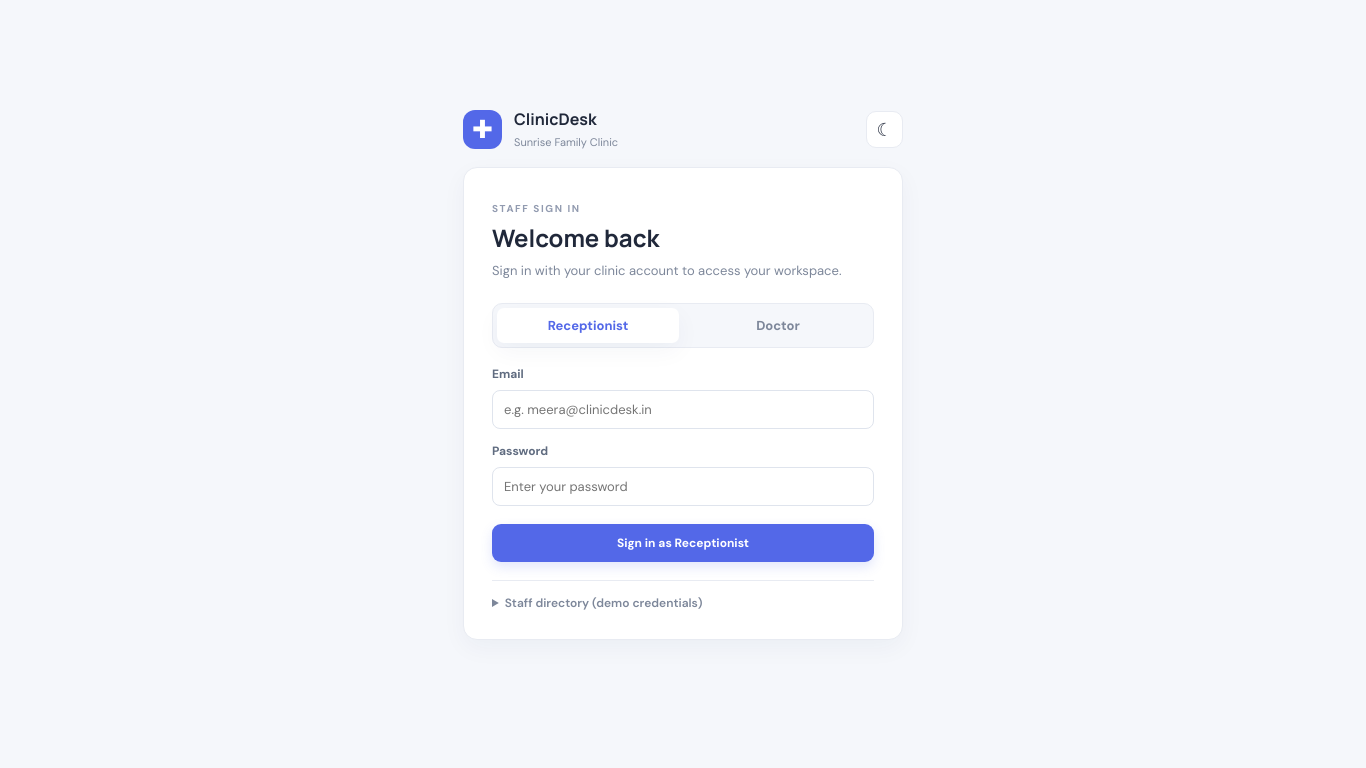
it: Login flow › authenticates a receptionist and directs them to the main dashboard
expect the heading "Welcome back" is shown: met, box [492, 222, 659, 254]
Type "meera@clinicdesk.in" into the field labelled "Email" at (683, 409), box [492, 390, 874, 428]
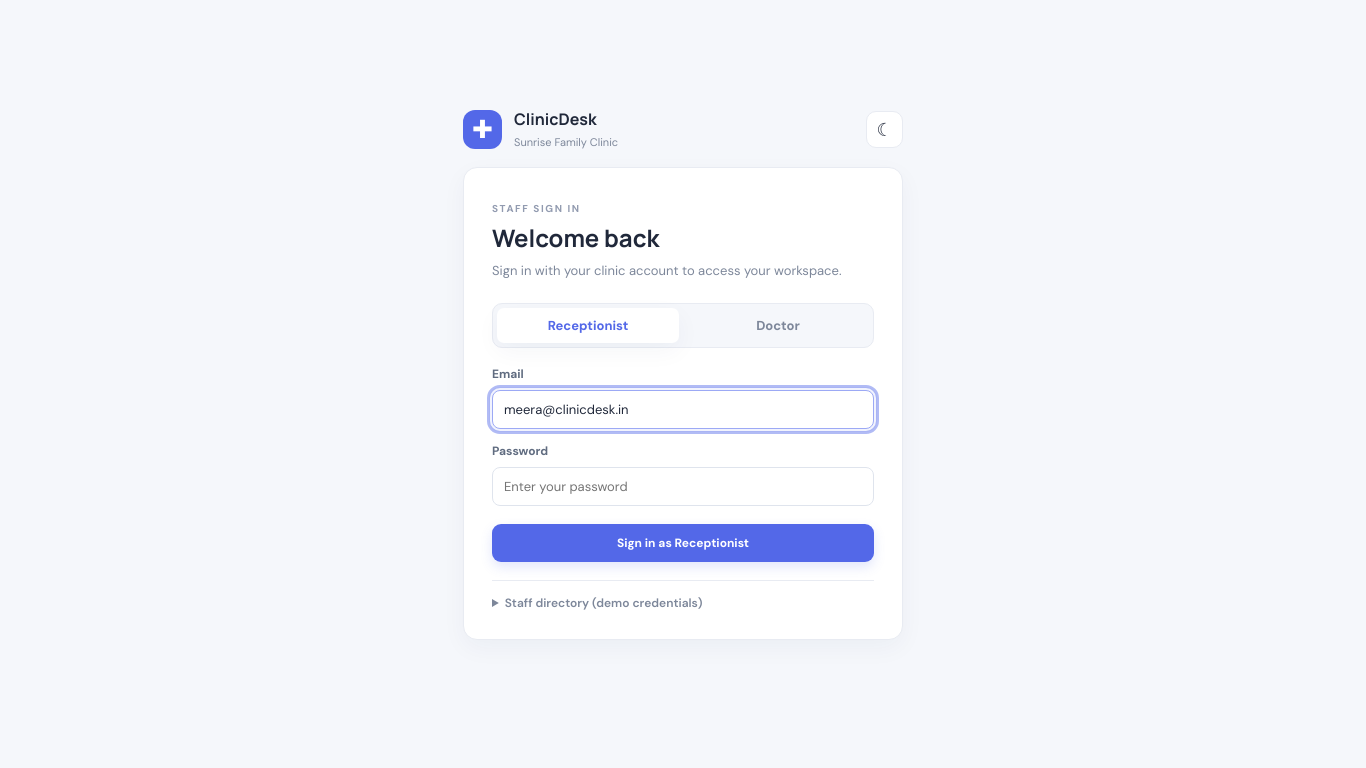
Type "clinic123" into the password field labelled "Password" at (683, 486), box [492, 466, 874, 506]
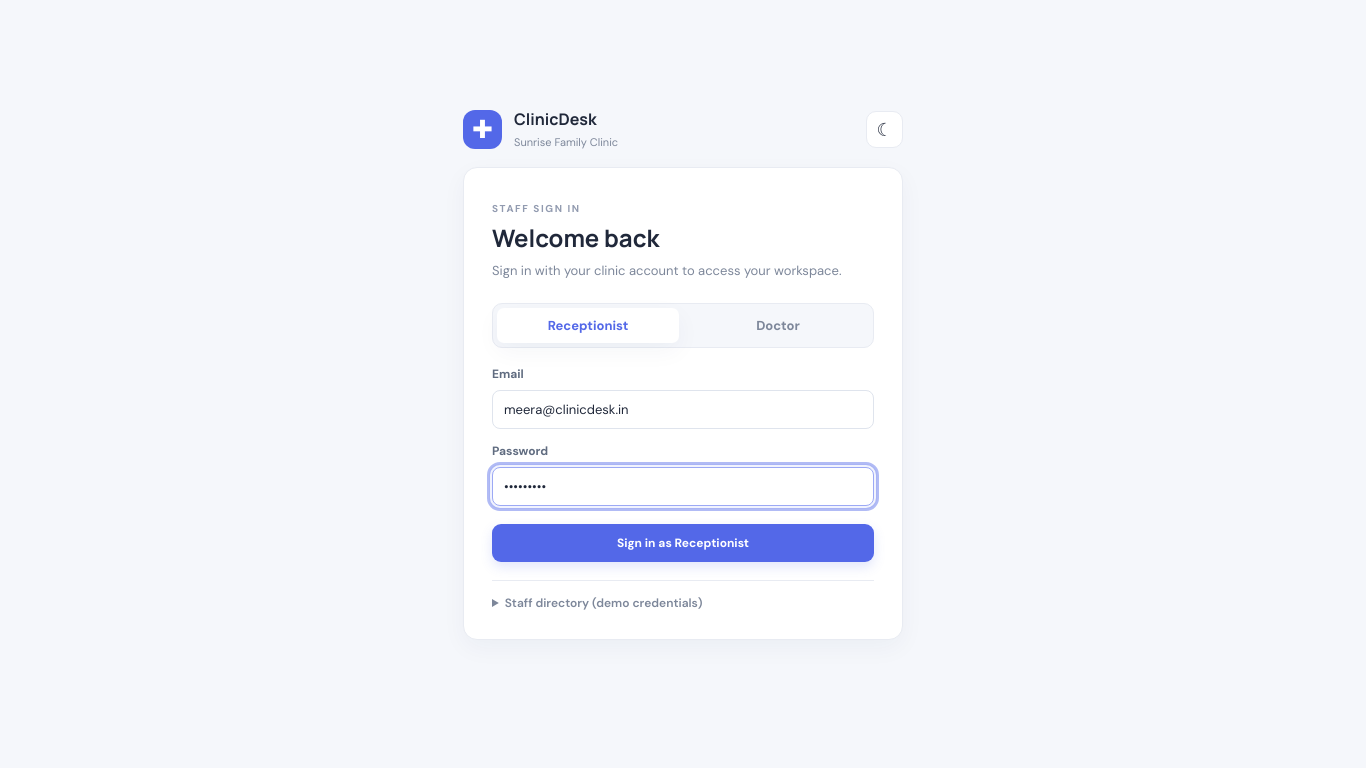
Click the button "Sign in as Receptionist" at (683, 542), box [492, 524, 874, 562]
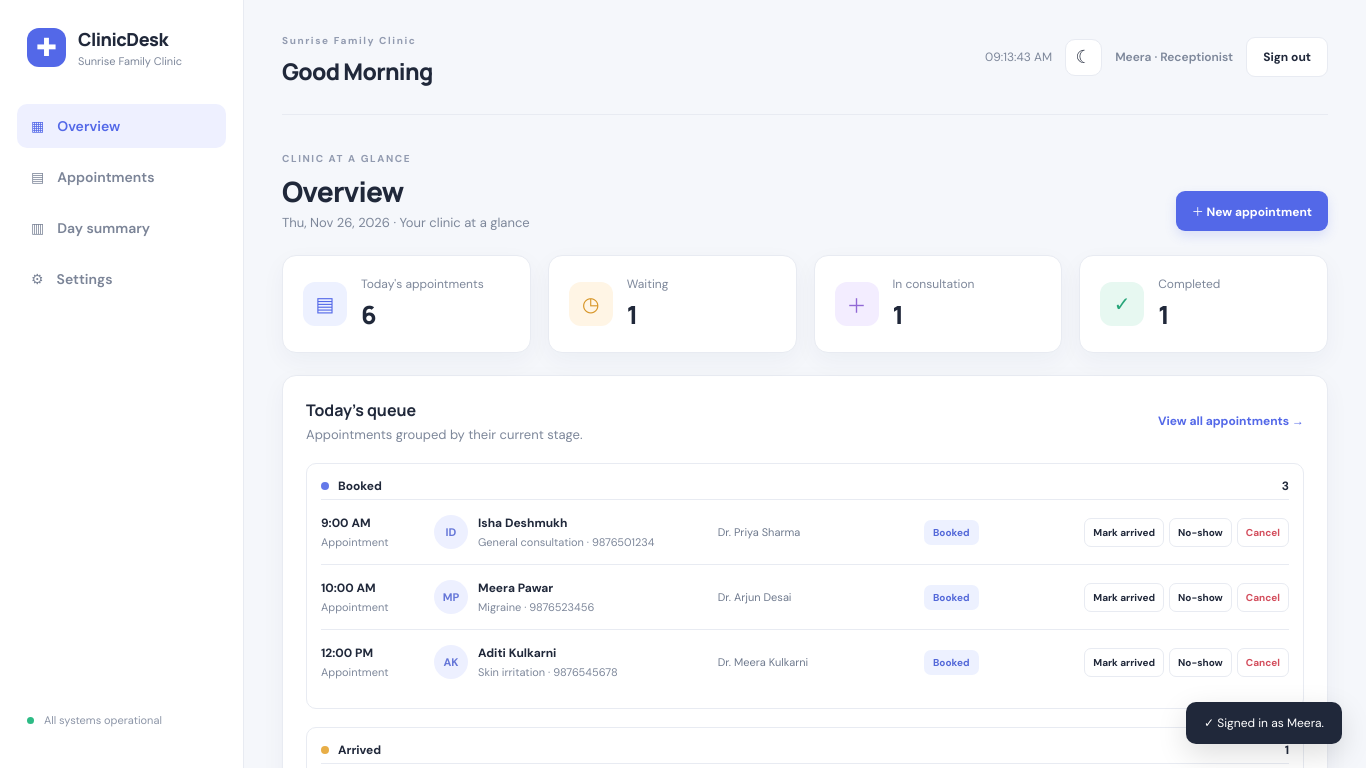
expect the text "Overview" is shown: met, box [57, 117, 120, 135]
expect the heading "Today's queue" is shown: met, box [306, 399, 416, 421]
